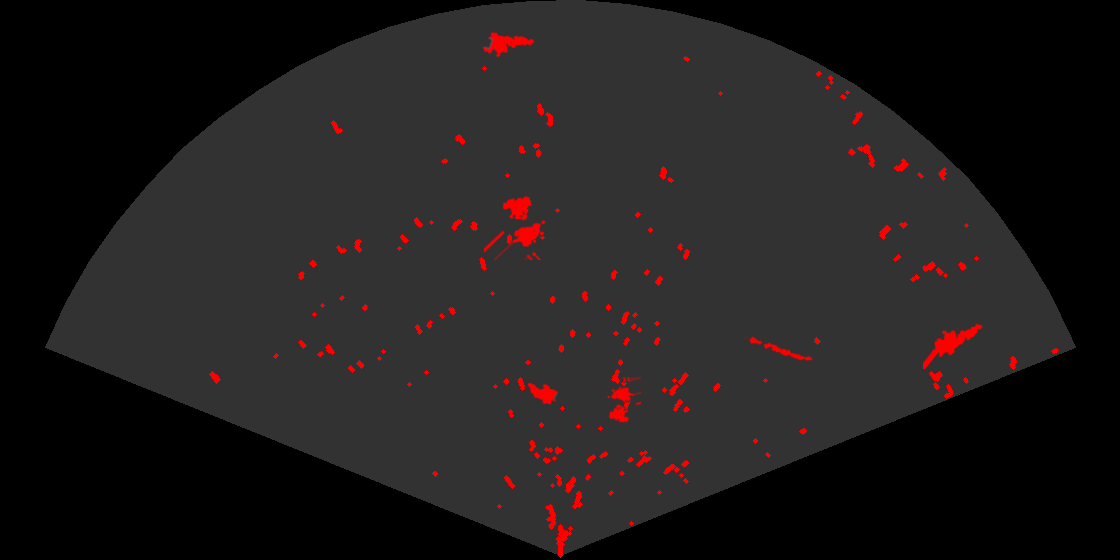AUV: (526, 381, 559, 406)
cage: (484, 195, 547, 260), (606, 377, 641, 424)
chain: (743, 335, 814, 363)
frogman: (923, 322, 984, 369), (481, 30, 536, 59)
